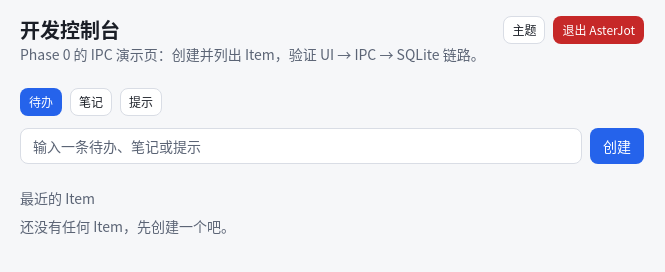
Test: DevConsole › 创建 Item 后出现在列表中，并清空输入框（M0 演示链路）
expect the text "还没有任何 Item，先创建一个吧。" is shown: met, box [20,216,235,236]
Type "  修复登录超时 " into the field named "标题" at (301, 146), box [20,128,582,164]
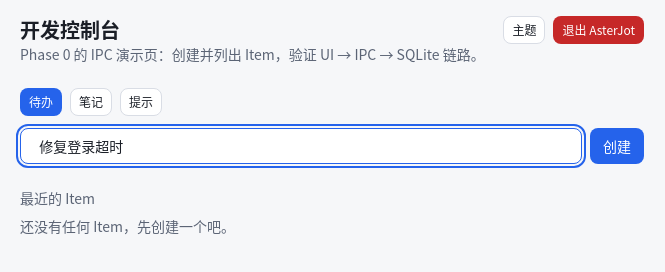
Click the button "创建" at (617, 146), box [590,128,644,164]
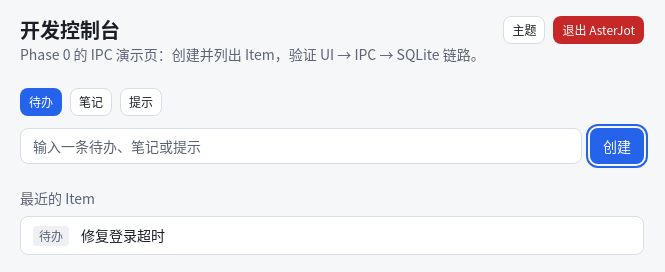
expect the text "修复登录超时" is shown: met, box [81,225,165,245]
expect the field named "标题" is empty: met, box [20,128,582,164]
